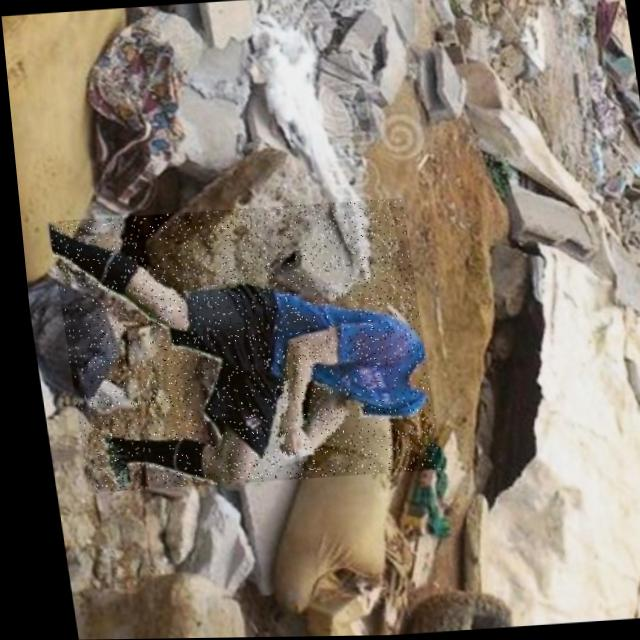Person in Rubble: (41, 199, 433, 494)
